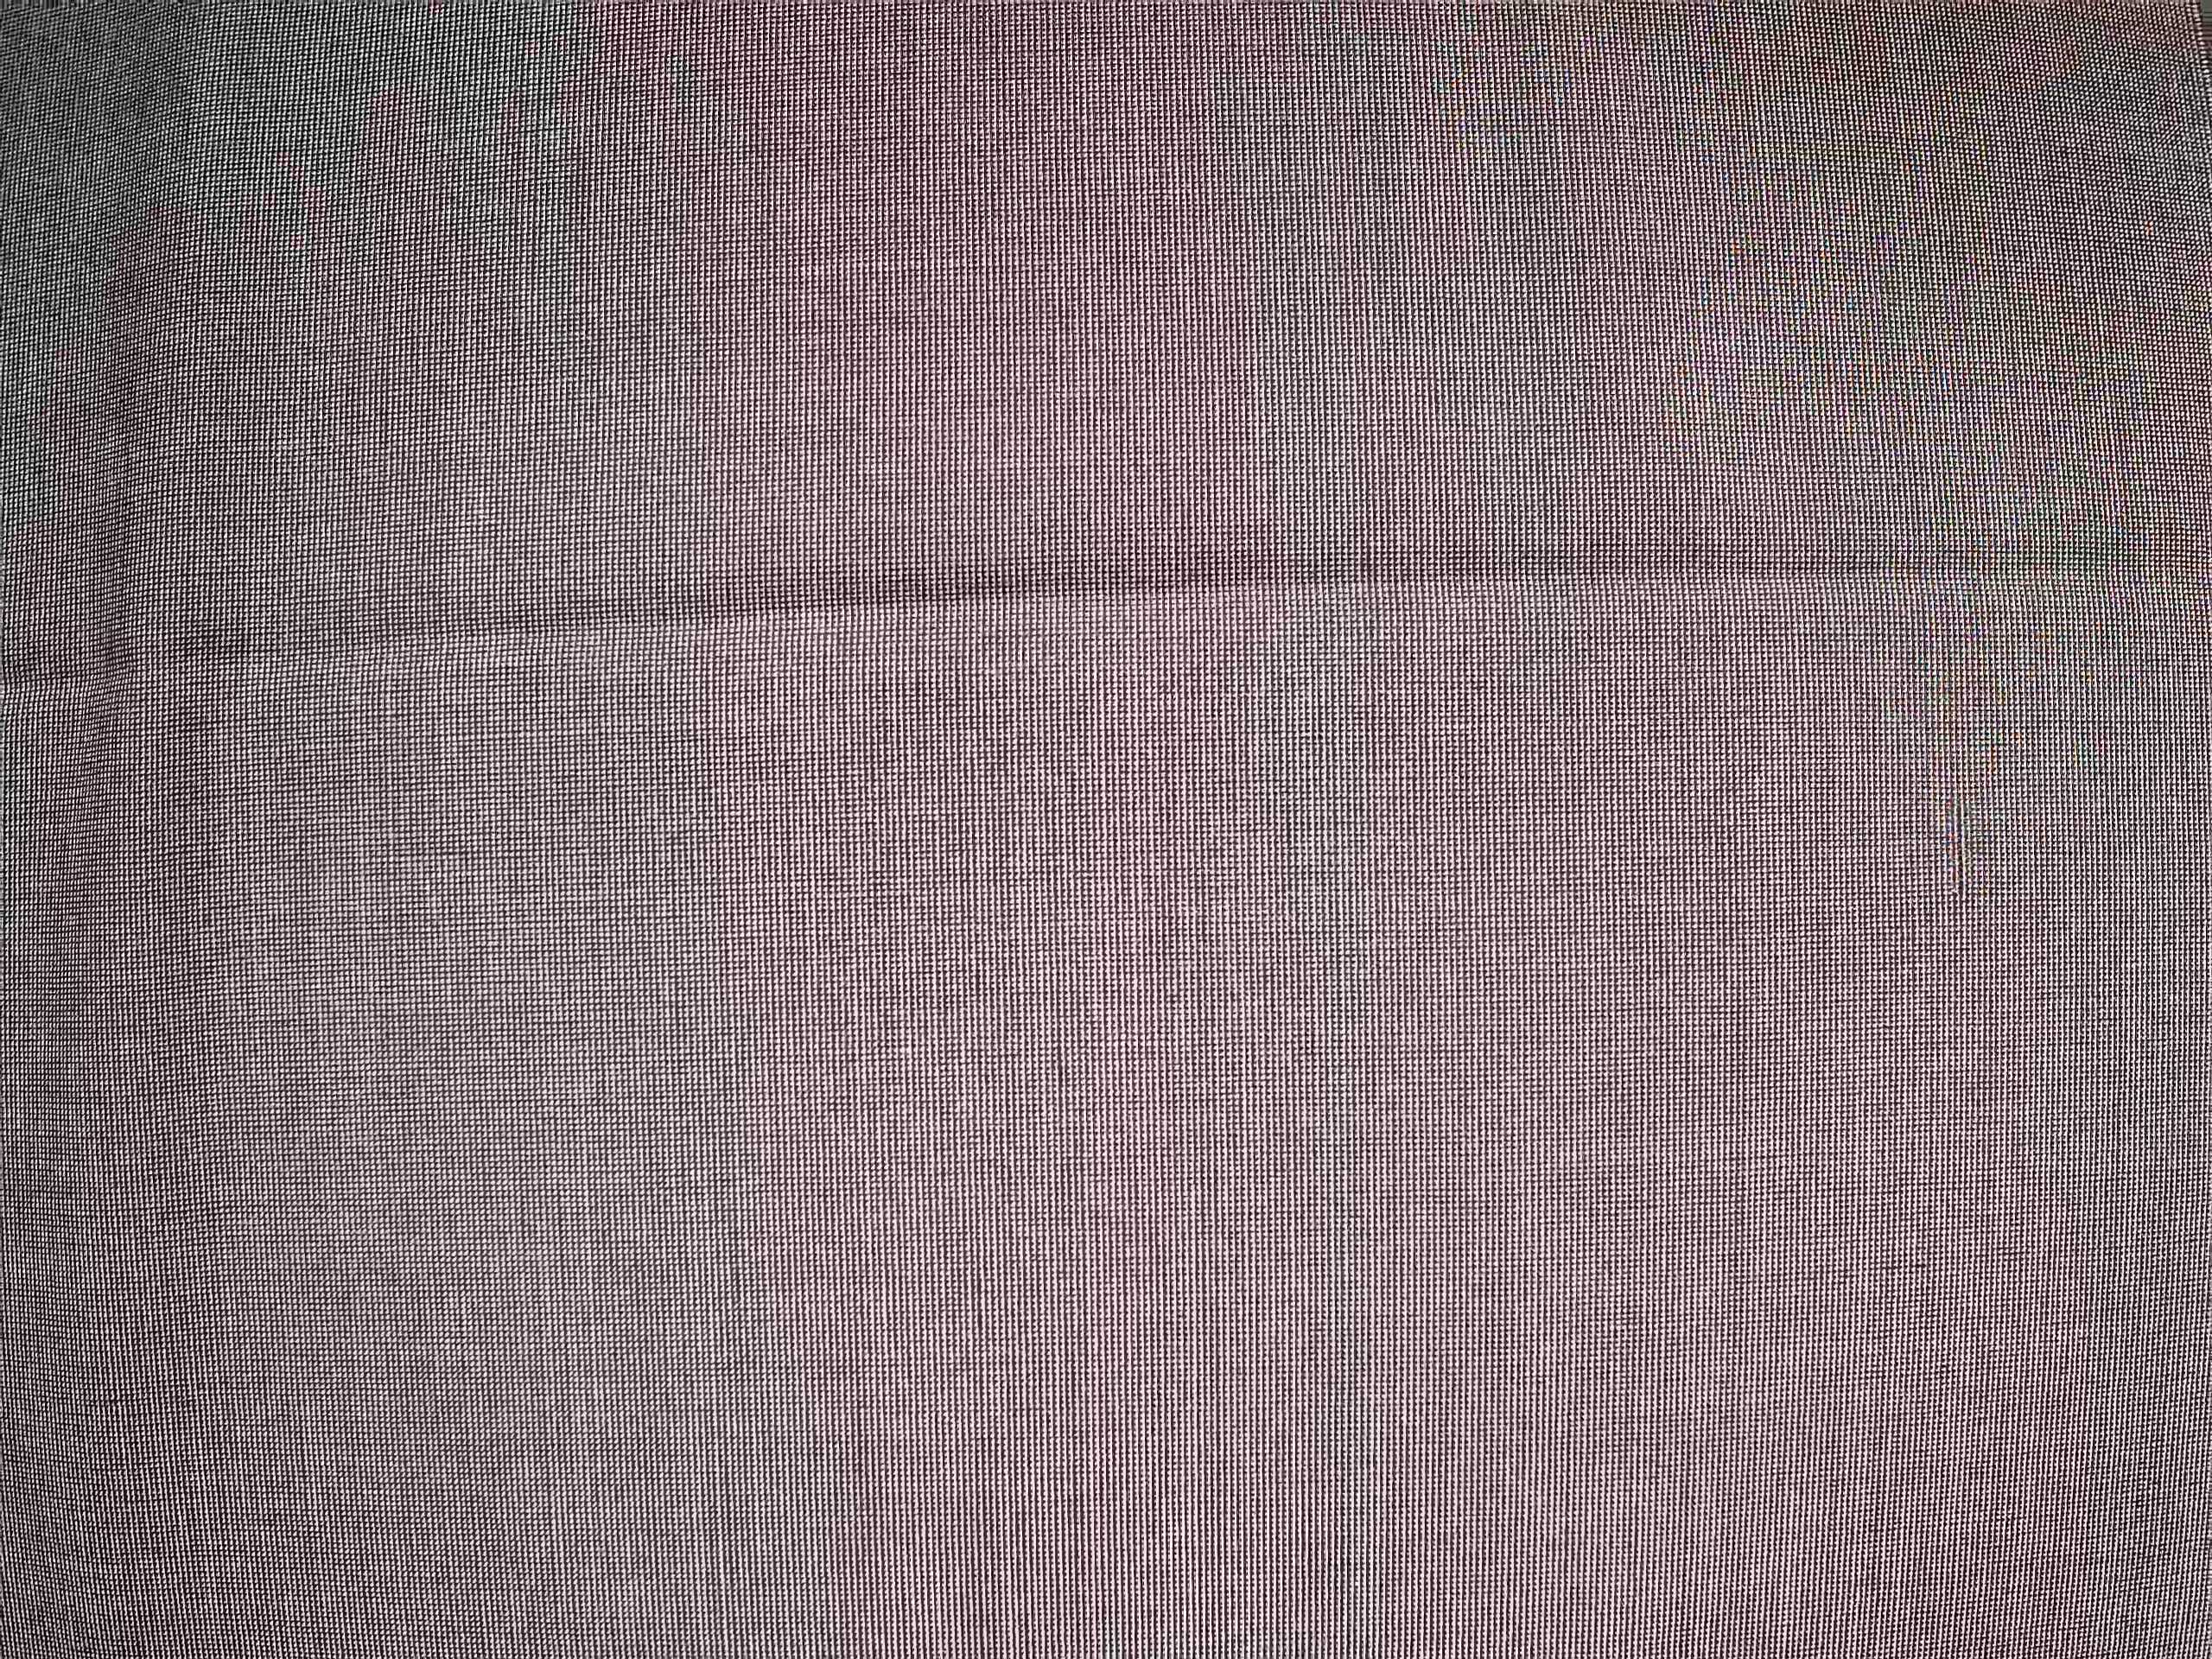jumps: (1932, 782, 1993, 922)
